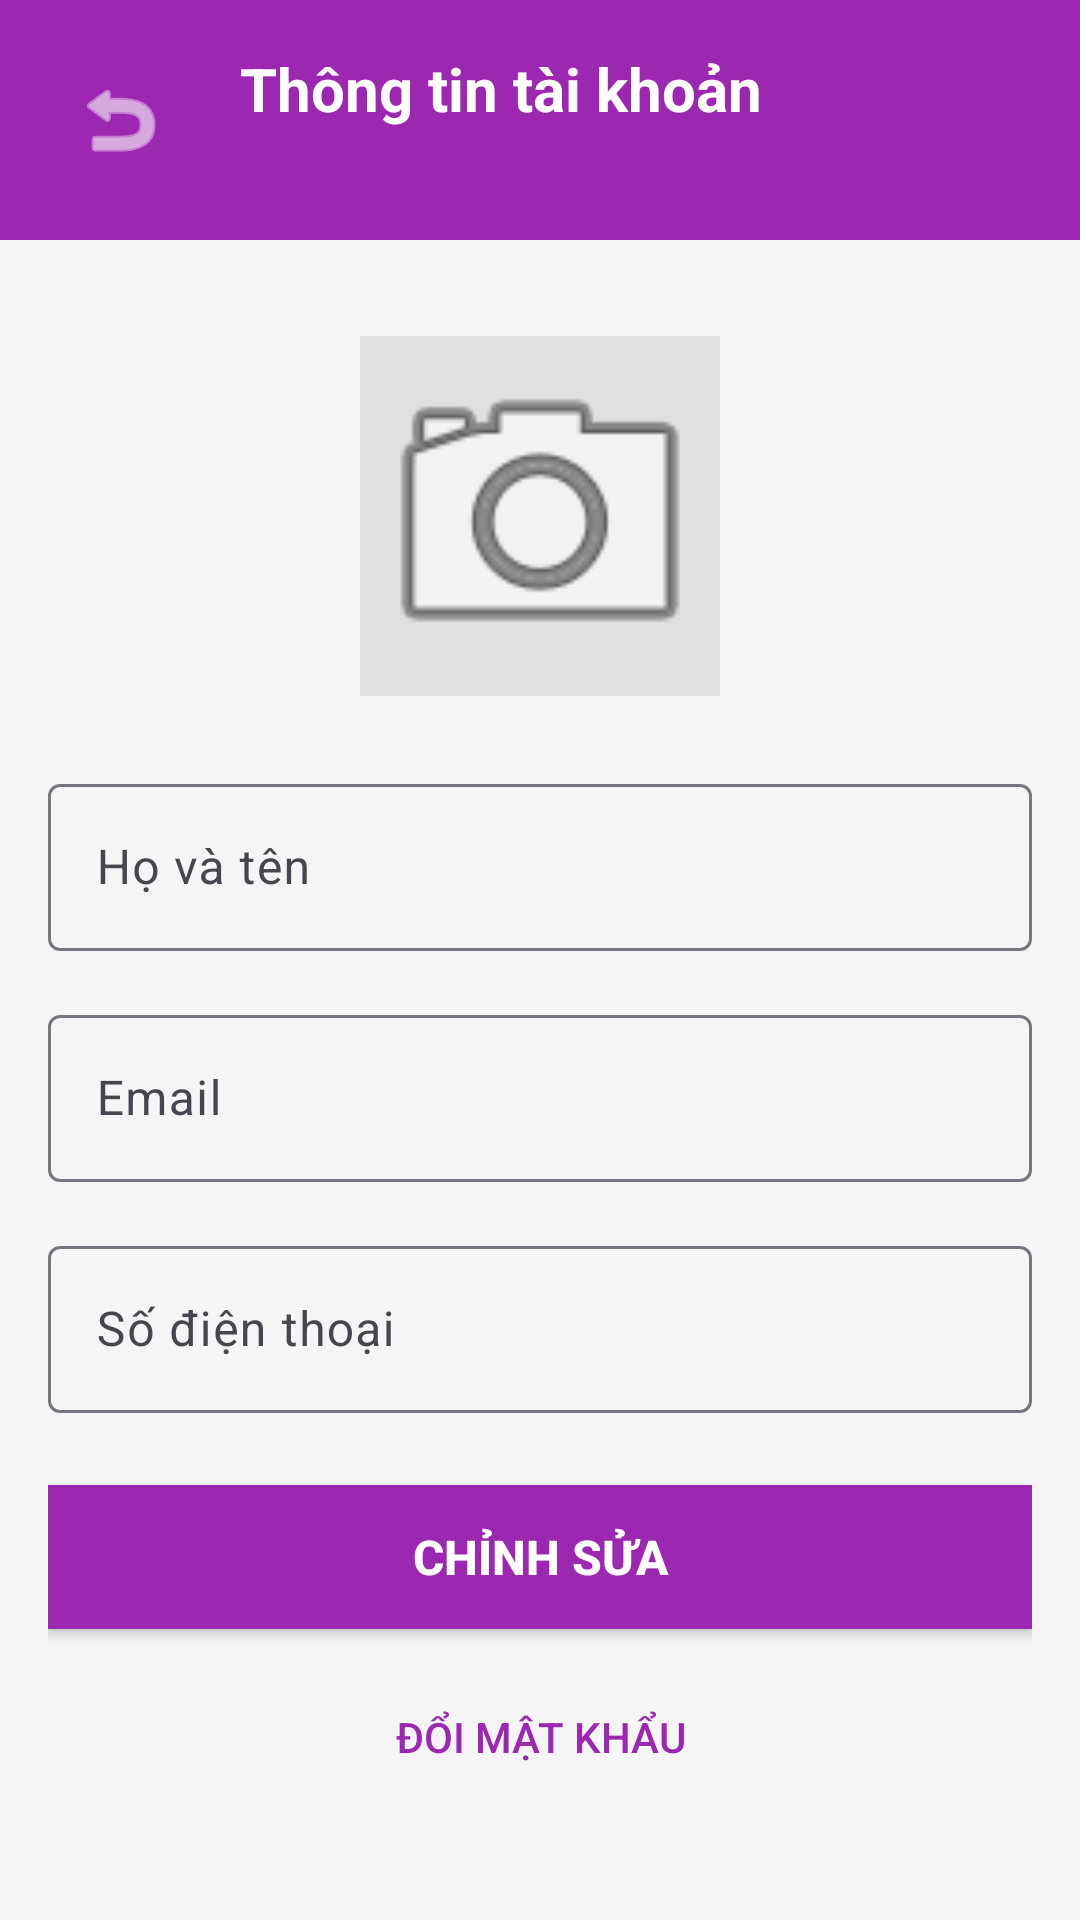

Screen size 1080 x 1920. Icon name, then its box in pixels as bbox(x1, y1, x2, y2):
camera: bbox(360, 336, 720, 696)
revert: bbox(87, 89, 156, 152)
